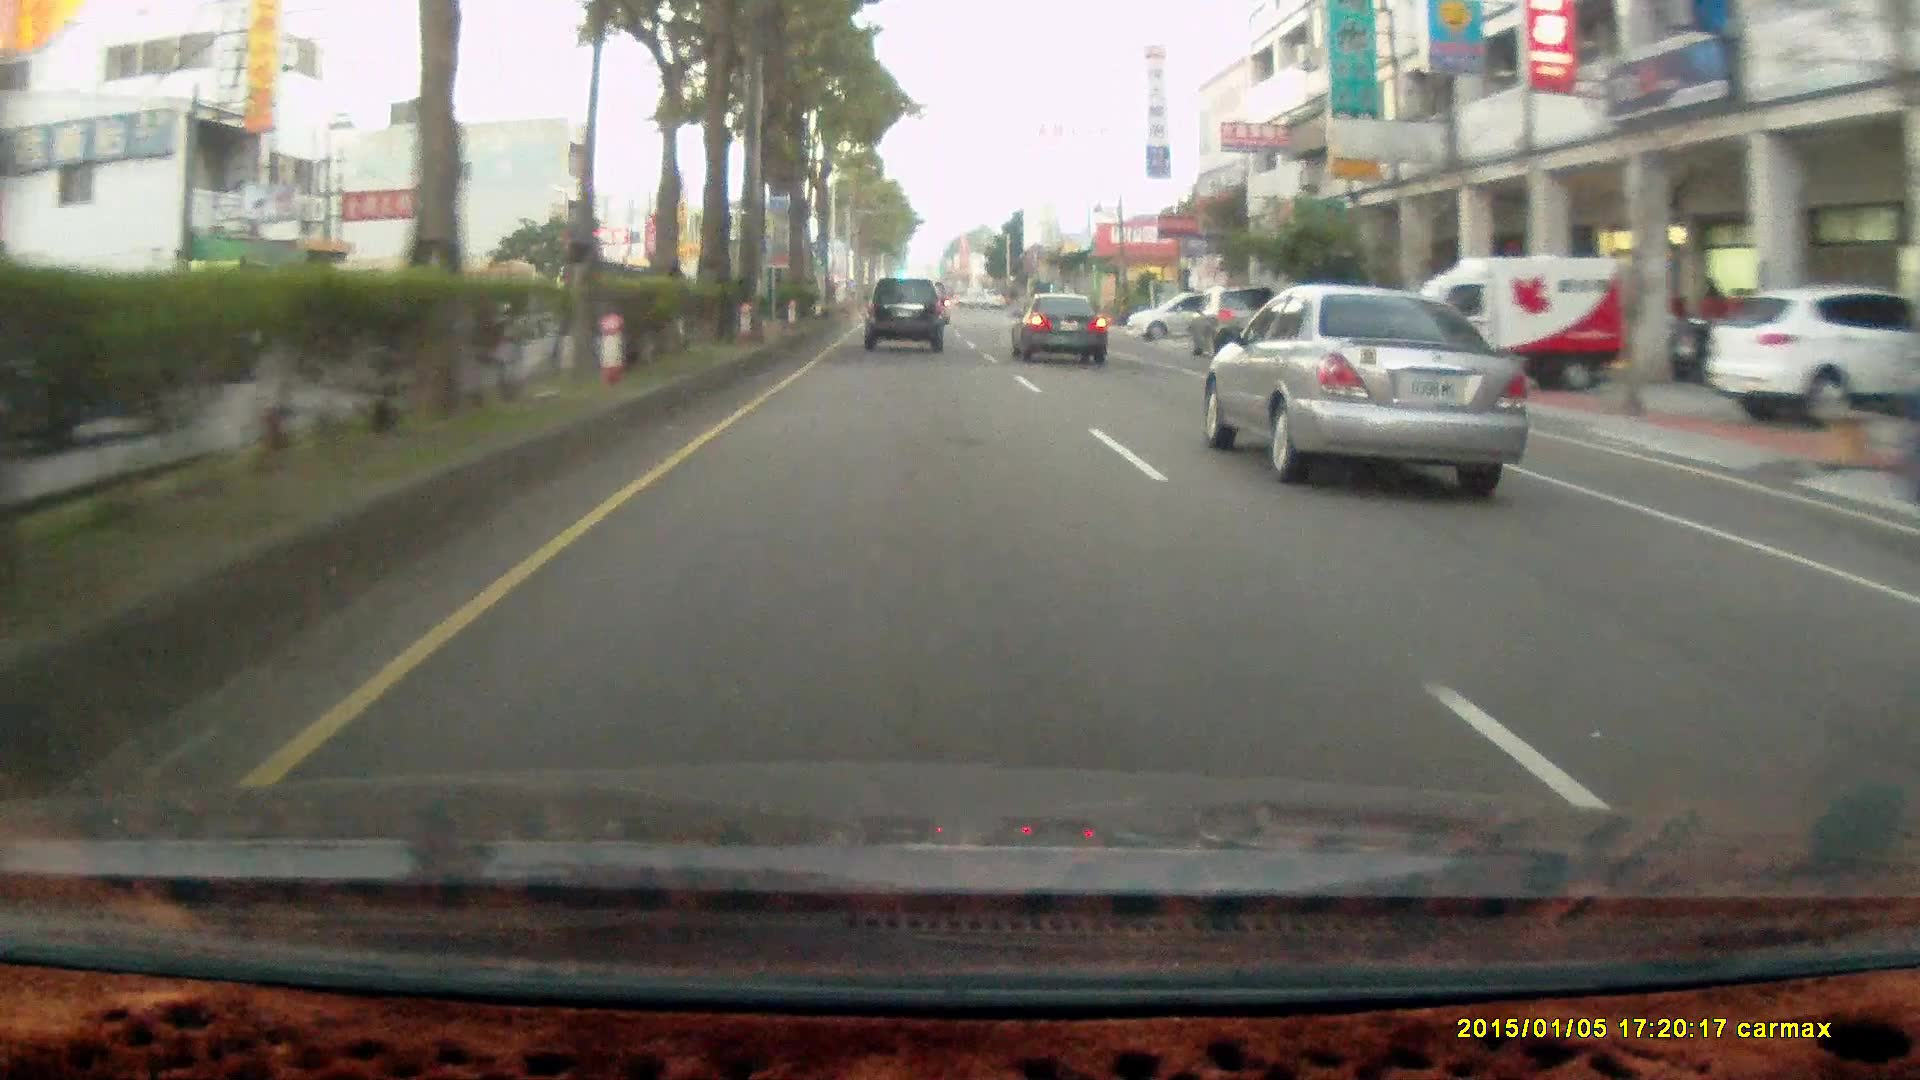vehicle: (1213, 290, 1540, 488), (1391, 251, 1630, 397), (1391, 251, 1629, 397), (1704, 282, 1919, 427), (1705, 281, 1920, 419), (1011, 289, 1112, 365), (1010, 293, 1106, 365), (1118, 287, 1241, 344), (864, 276, 951, 355), (1121, 289, 1245, 344), (1183, 285, 1279, 355), (1197, 287, 1288, 360), (862, 277, 943, 352)
